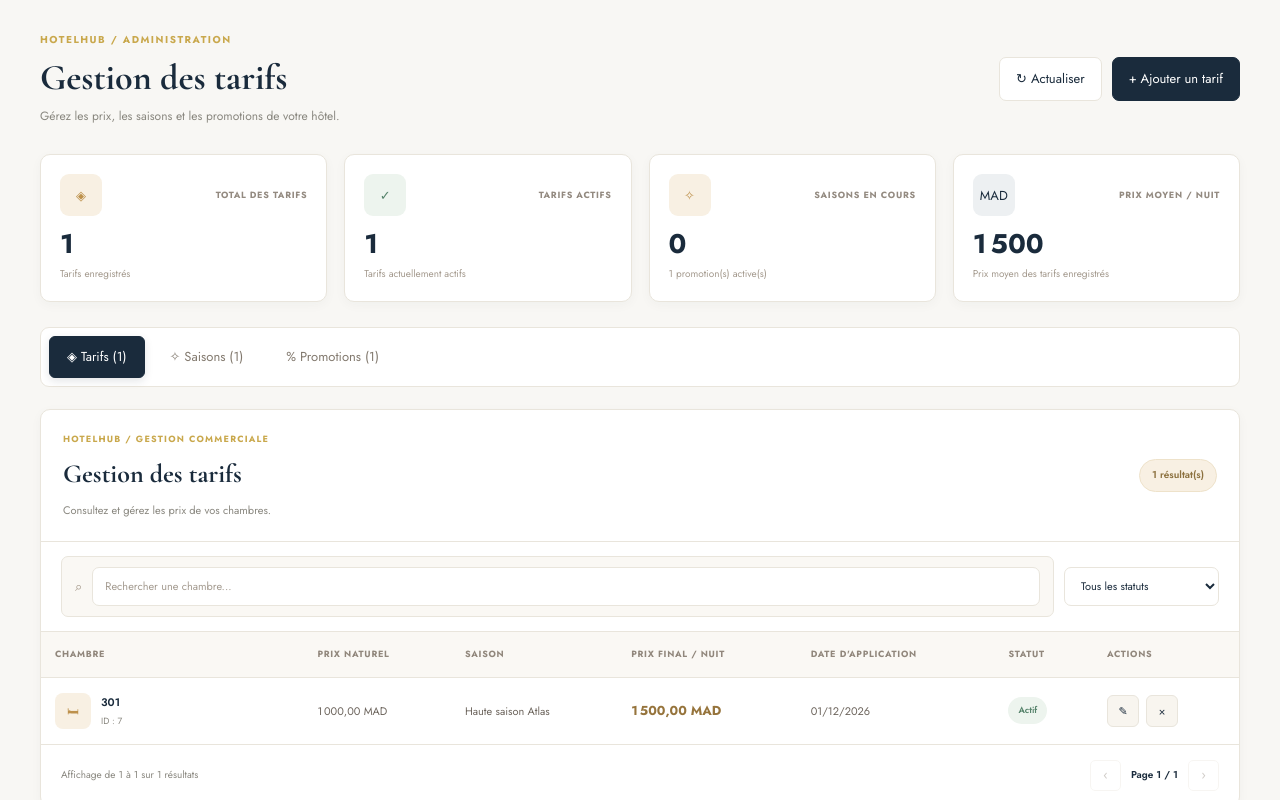
Test case: AdminTarifsPage › ferme la modale
Expected: the table is shown, [41,632,1239,744]
Click the button "+ Ajouter un tarif". click: [1176, 79]
box: [1112,57,1240,101]
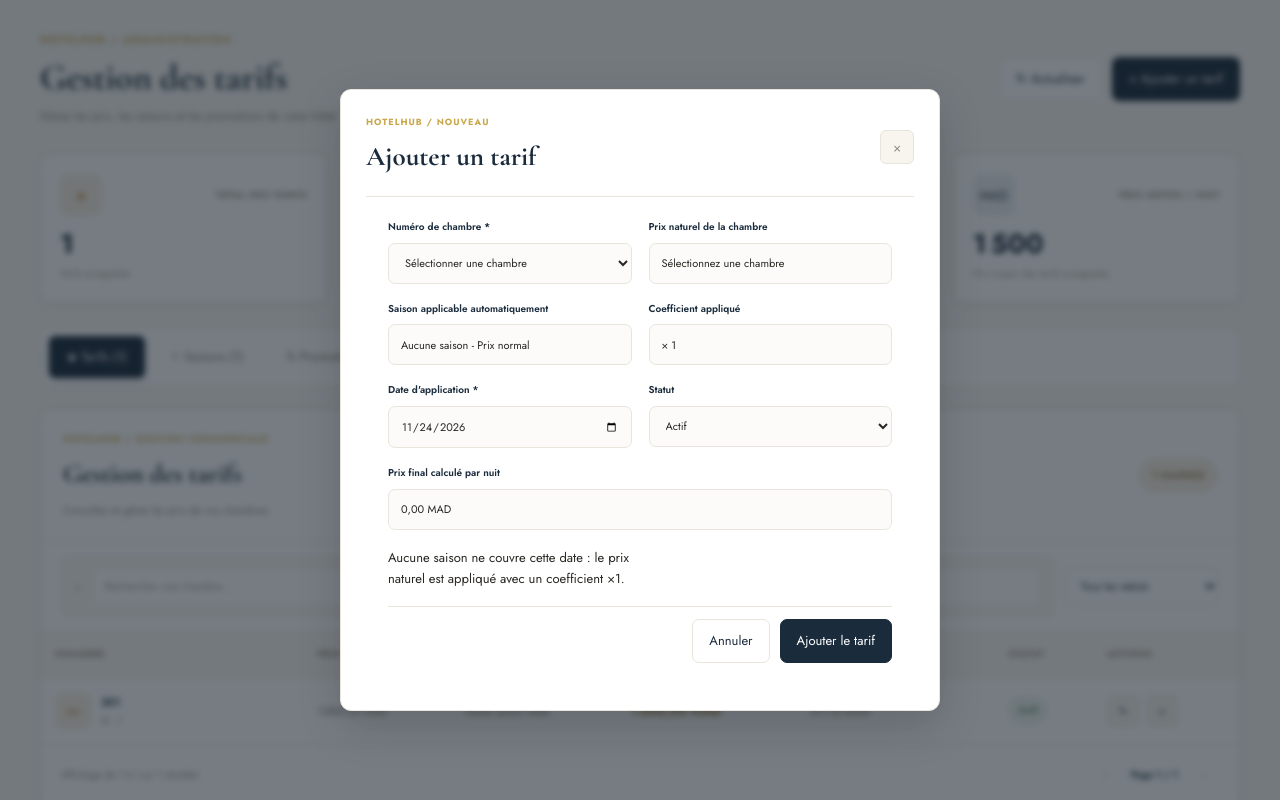
Click the button named "Fermer". click: [897, 147]
box: [880,130,914,164]
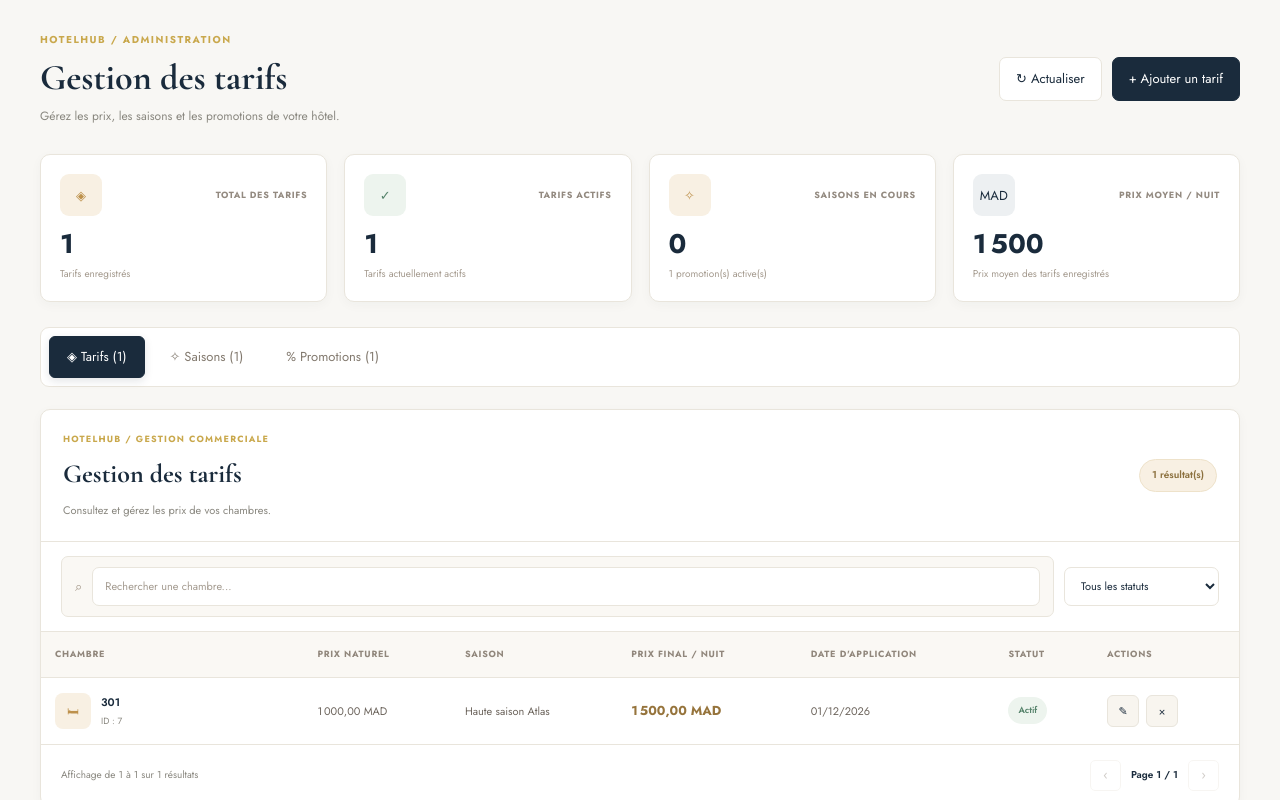
Expected: the dialog is gone
